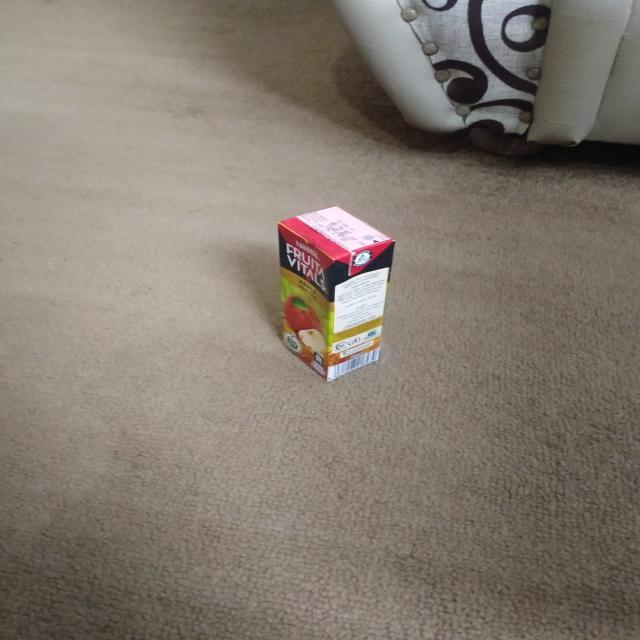Plastic: (260, 198, 403, 402)
